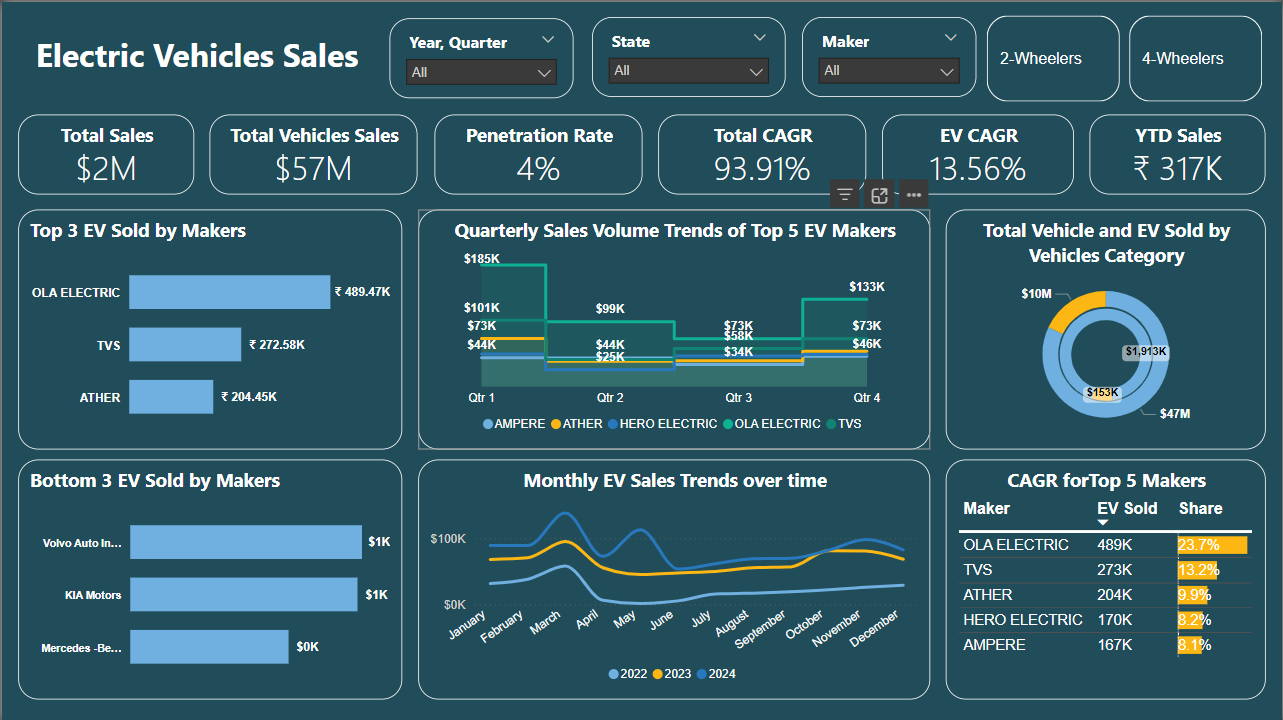

What the dashboard file says about the page in this screenshot:
{"tool":"powerbi","page":{"name":"Page 1","canvas":[1280,720],"ordinal":0},"visuals":[{"type":"card","title":"Total Sales","fields":{"Values":["electric_vehicle_sales_by_makers.Total Sales"]},"box":[16,112,176,80],"z":0},{"type":"card","title":"Total Vehicles Sales","fields":{"Values":["Sum(electric_vehicle_sales_by_state.total_vehicles_sold)"]},"box":[208,112,208,80],"z":1000},{"type":"card","title":"Total CAGR","fields":{"Values":["electric_vehicle_sales_by_makers.EV CAGR"]},"box":[656,112,208,80],"z":2000},{"type":"card","title":"EV CAGR","fields":{"Values":["electric_vehicle_sales_by_state.Total CAGR"]},"box":[880,112,192,80],"z":3000},{"type":"card","title":"Penetration Rate","fields":{"Values":["electric_vehicle_sales_by_state.Penetration Rate"]},"box":[432,112,208,80],"z":4000},{"type":"clusteredBarChart","title":"Top 3 EV Sold by Makers","fields":{"Category":["electric_vehicle_sales_by_makers.maker"],"Y":["Sum(electric_vehicle_sales_by_makers.electric_vehicles_sold)"]},"box":[16,208,384,240],"z":5000},{"type":"clusteredBarChart","title":"Bottom 3 EV Sold by Makers","fields":{"Category":["electric_vehicle_sales_by_makers.maker"],"Y":["Sum(electric_vehicle_sales_by_makers.electric_vehicles_sold)"]},"box":[16,458,384,240],"z":6000},{"type":"lineChart","title":"Quarterly Sales Volume Trends of Top 5 EV Makers","fields":{"Category":["dim_date.date.Variation.Date Hierarchy.Quarter"],"Y":["electric_vehicle_sales_by_makers.Total Sales"],"Series":["electric_vehicle_sales_by_makers.maker"]},"box":[416,208,512,240],"z":7000},{"type":"lineChart","title":"Monthly EV Sales Trends over time","fields":{"Y":["dim_date.Monthly Sales"],"Category":["dim_date.date.Variation.Date Hierarchy.Month"],"Series":["dim_date.fiscal_year"]},"box":[416,458,512,240],"z":8000},{"type":"donutChart","title":" Total Vehicle and EV Sold by Vehicles Category","fields":{"Category":["electric_vehicle_sales_by_state.vehicle_category"],"Y":["Sum(electric_vehicle_sales_by_state.total_vehicles_sold)"]},"box":[944,208,320,240],"z":9000},{"type":"donutChart","title":" Total Vehicle and EV Sold by Vehicles Category","fields":{"Category":["electric_vehicle_sales_by_makers.vehicle_category"],"Y":["electric_vehicle_sales_by_makers.Total Sales"]},"box":[1017.9,282.9,172.9,140.7],"z":10000},{"type":"card","title":"YTD Sales","fields":{"Values":["dim_date.YTD Sales"]},"box":[1088,112,176,80],"z":11000},{"type":"slicer","fields":{"Values":["dim_date.date.Variation.Date Hierarchy.Year","dim_date.date.Variation.Date Hierarchy.Quarter"]},"box":[387.1,15.7,184.3,80],"z":12000},{"type":"slicer","fields":{"Values":["electric_vehicle_sales_by_state.state"]},"box":[590,15.5,193.6,80],"z":13000},{"type":"slicer","fields":{"Values":["electric_vehicle_sales_by_makers.maker"]},"box":[800,15.5,174.5,80],"z":14000},{"type":"textbox","box":[16.2,26.2,357.5,60],"z":15000},{"type":"tableEx","title":"CAGR forTop 5 Makers","fields":{"Values":["electric_vehicle_sales_by_makers.maker","Sum(electric_vehicle_sales_by_makers.electric_vehicles_sold)","electric_vehicle_sales_by_makers.Market Share"]},"box":[944,458,320,240],"z":16000},{"type":"advancedSlicerVisual","fields":{"Values":["electric_vehicle_sales_by_makers.vehicle_category"]},"box":[980,8.2,285.5,96.4],"z":16001}]}

Visuals, with their boxes in screenshot pixels (x1, y1, x2, y2), scaled from the page's 1280x720 canvas onto the 1283x720 screenshot:
"Total Sales" card: locate(16, 112, 192, 192)
"Total Vehicles Sales" card: locate(208, 112, 417, 192)
"Total CAGR" card: locate(658, 112, 866, 192)
"EV CAGR" card: locate(882, 112, 1075, 192)
"Penetration Rate" card: locate(433, 112, 642, 192)
"Top 3 EV Sold by Makers" clusteredBarChart: locate(16, 208, 401, 448)
"Bottom 3 EV Sold by Makers" clusteredBarChart: locate(16, 458, 401, 698)
"Quarterly Sales Volume Trends of Top 5 EV Makers" lineChart: locate(417, 208, 930, 448)
"Monthly EV Sales Trends over time" lineChart: locate(417, 458, 930, 698)
" Total Vehicle and EV Sold by Vehicles Category" donutChart: locate(946, 208, 1267, 448)
" Total Vehicle and EV Sold by Vehicles Category" donutChart: locate(1020, 283, 1194, 424)
"YTD Sales" card: locate(1091, 112, 1267, 192)
slicer - dim_date.date.Variation.Date Hierarchy.Year x dim_date.date.Variation.Date Hierarchy.Quarter: locate(388, 16, 573, 96)
slicer - electric_vehicle_sales_by_state.state: locate(591, 16, 785, 96)
slicer - electric_vehicle_sales_by_makers.maker: locate(802, 16, 977, 96)
textbox: locate(16, 26, 375, 86)
"CAGR forTop 5 Makers" tableEx: locate(946, 458, 1267, 698)
advancedSlicerVisual - electric_vehicle_sales_by_makers.vehicle_category: locate(982, 8, 1268, 105)
